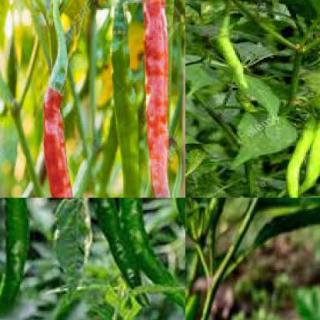green_chilli: (116, 198, 184, 319), (87, 198, 151, 313), (108, 29, 137, 197), (214, 17, 262, 116), (0, 198, 28, 319), (286, 114, 316, 197), (298, 110, 319, 195), (203, 198, 235, 238)
